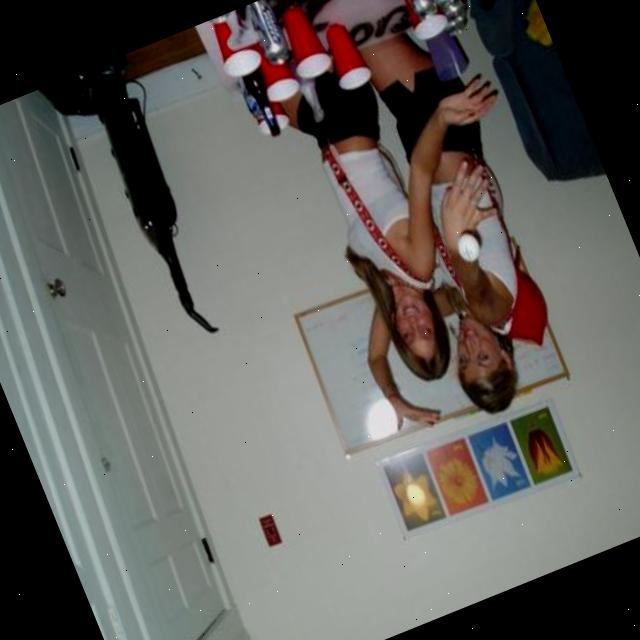ping-pong-ball: (450, 228, 484, 267)
